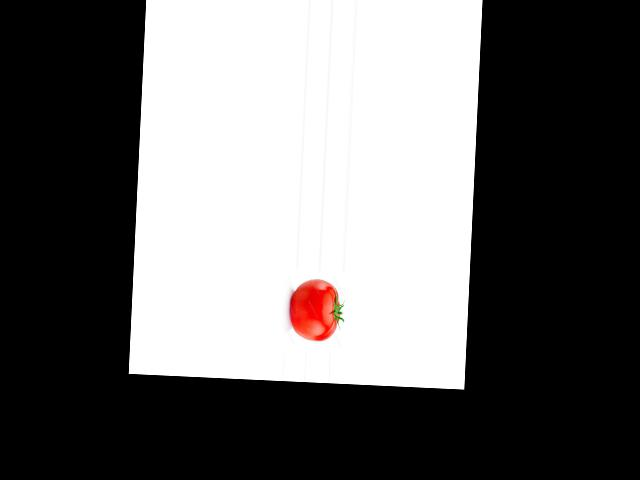tomato: (289, 278, 341, 342)
